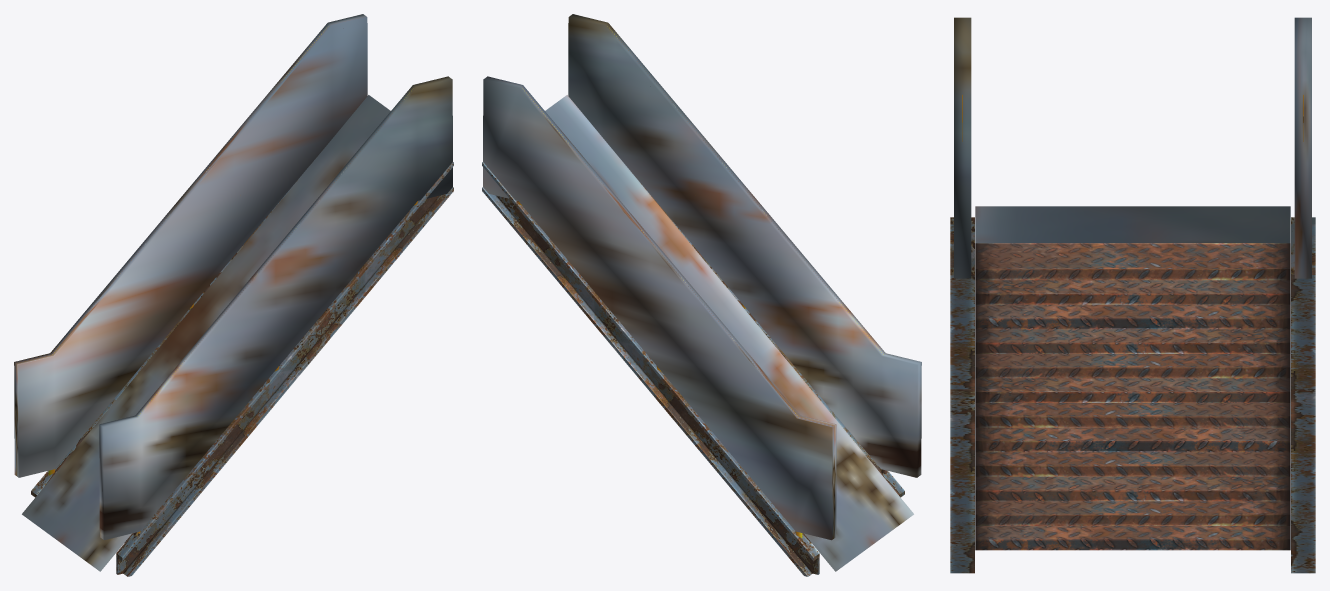
File: platform_stairs02.FBX
The picture shows the model from 3 angles, left to right: view 1: azimuth 30°, elevation 25°; view 2: azimuth 150°, elevation 25°; view 3: azimuth 270°, elevation 25°; orthographic projection. The views are drawn at different scales.
Parts seen in each view (by area): view 1: platform_stairs02_COL, platform_stairs02; view 2: platform_stairs02_COL, platform_stairs02; view 3: platform_stairs02, platform_stairs02_COL.
Part boxes in pixels (left/top/right/bottom): platform_stairs02_COL: left=14, top=14, right=452, bottom=571; platform_stairs02: left=31, top=34, right=453, bottom=576; platform_stairs02_COL: left=483, top=14, right=921, bottom=571; platform_stairs02: left=482, top=34, right=904, bottom=576; platform_stairs02: left=950, top=95, right=1315, bottom=573; platform_stairs02_COL: left=954, top=17, right=1311, bottom=278.
Size of the model in its own units: 328 by 374 by 148.
